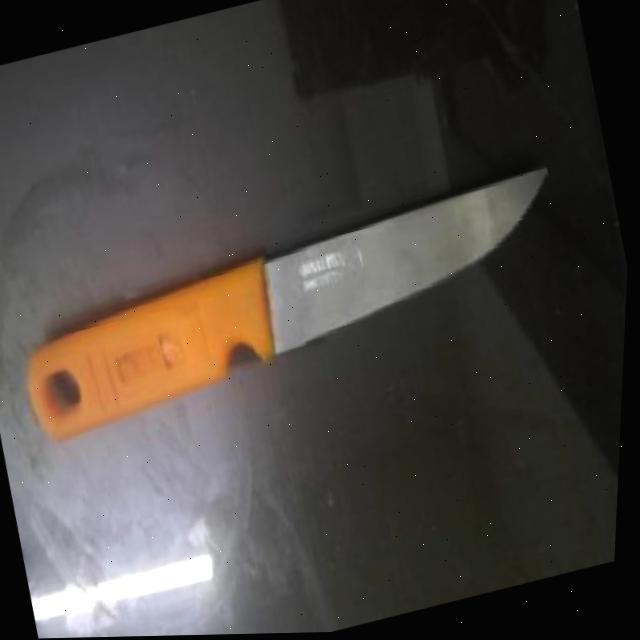knife: (7, 166, 578, 446)
